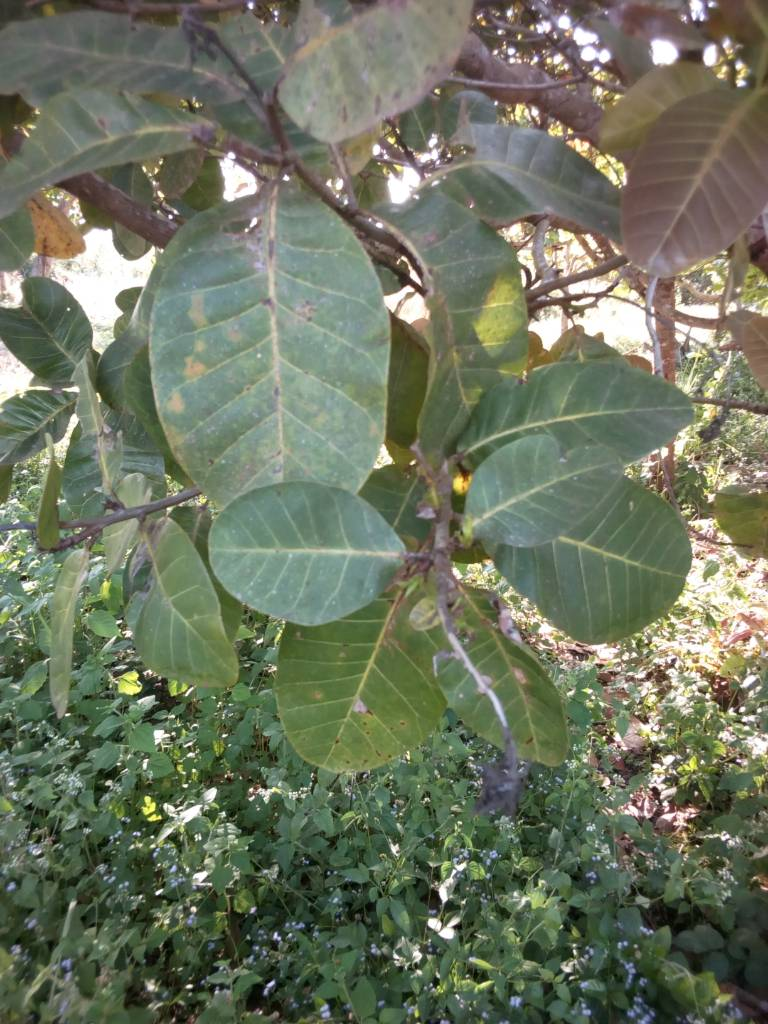Dessèchement des bourgeons: (440, 630, 533, 824)
